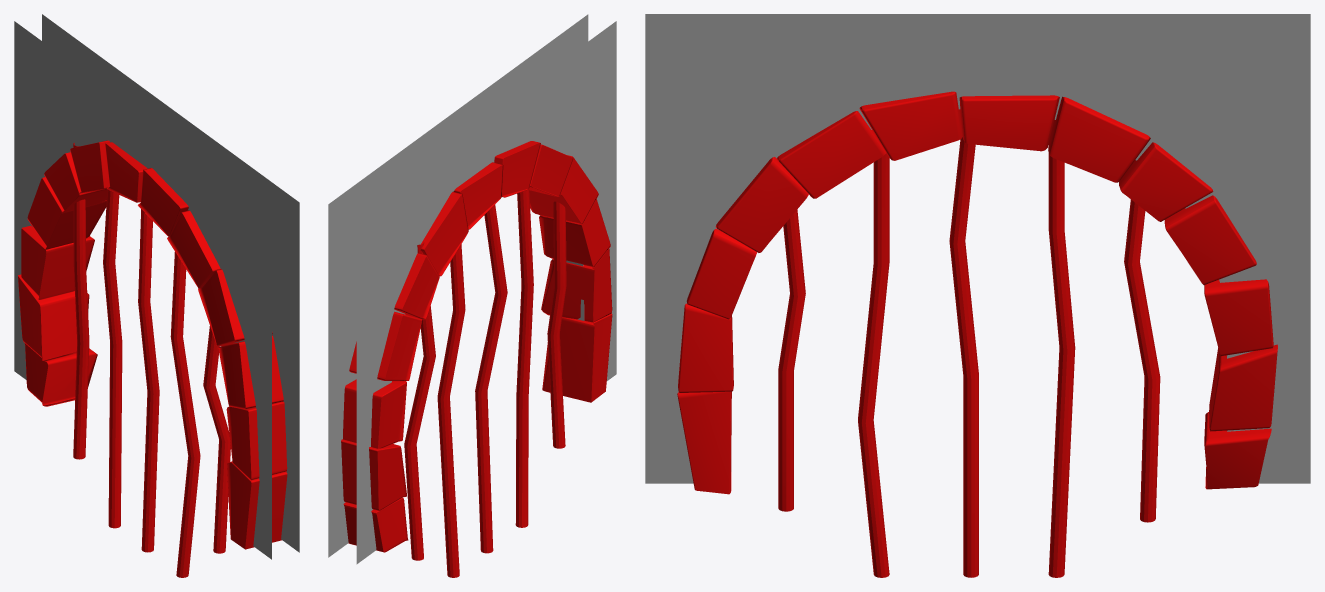
File: SM_Tunnel_Blocked.fbx
3 renders of one model, left to right at view 1: azimuth 30°, elevation 25°; view 2: azimuth 150°, elevation 25°; view 3: azimuth 270°, elevation 25°, orthographic. The views are drawn at different scales.
Visible parts, largest first — view 1: polySurface6217; view 2: polySurface6217; view 3: polySurface6217.
Boxes of the visible parts, x1=… form: polySurface6217: x1=14, y1=14, x2=299, y2=577; polySurface6217: x1=328, y1=14, x2=616, y2=577; polySurface6217: x1=645, y1=14, x2=1310, y2=577.
Bounding box in the file's own units: 98.55 × 742 × 800.
